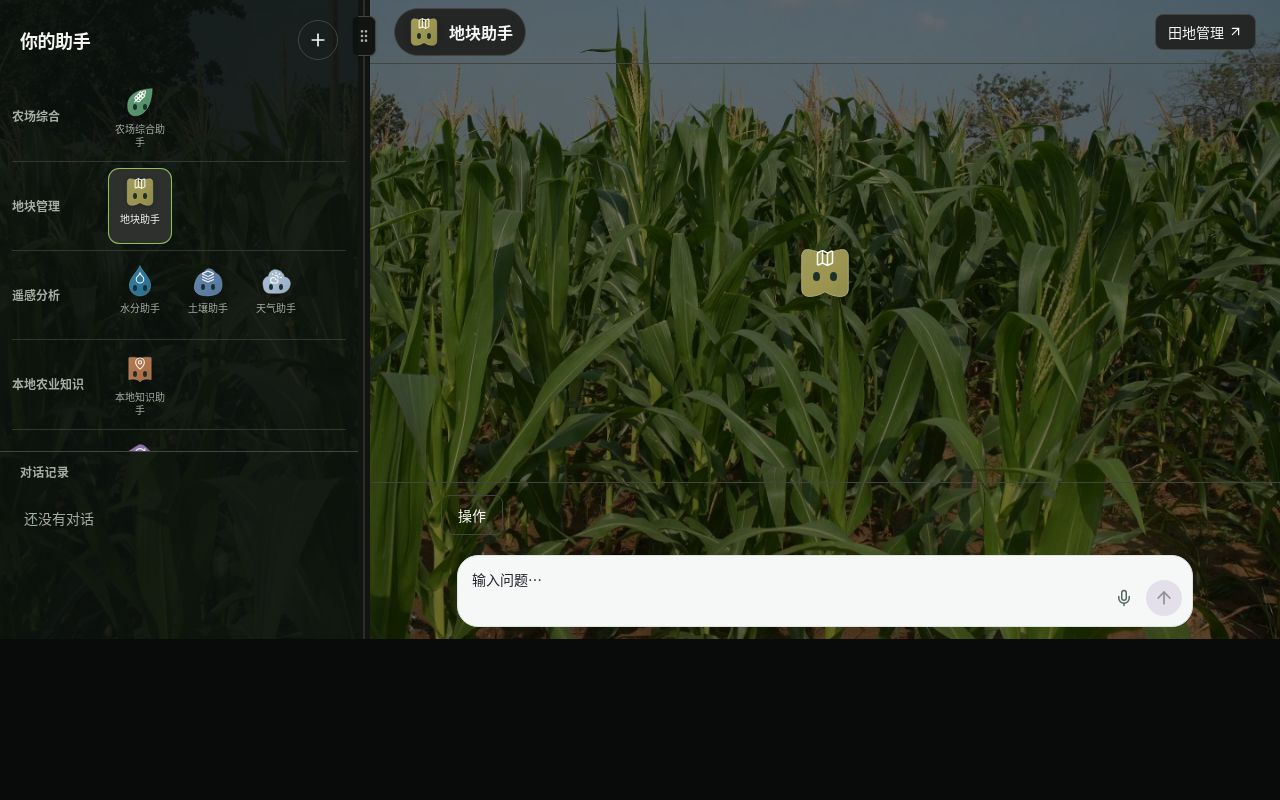
Test case: keeps Chinese after a reload and labels local prices and varieties as mock
Expected: the heading "你的助手" is shown, left=20, top=26, right=90, bottom=54
Click the button "本地知识助手".
click(140, 384)  # box left=108, top=346, right=172, bottom=423
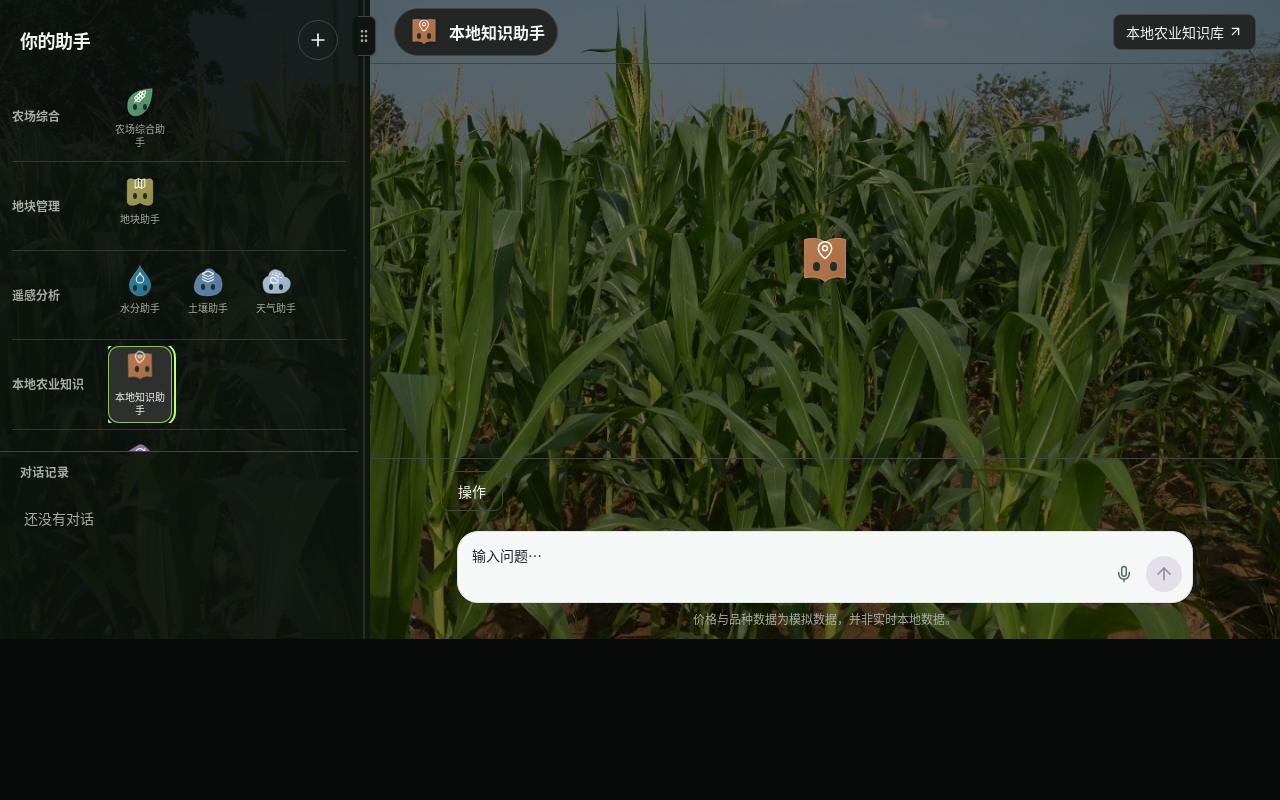
Now the text "价格与品种数据为模拟数据，并非实时本地数据。" is shown, box left=693, top=610, right=957, bottom=627
